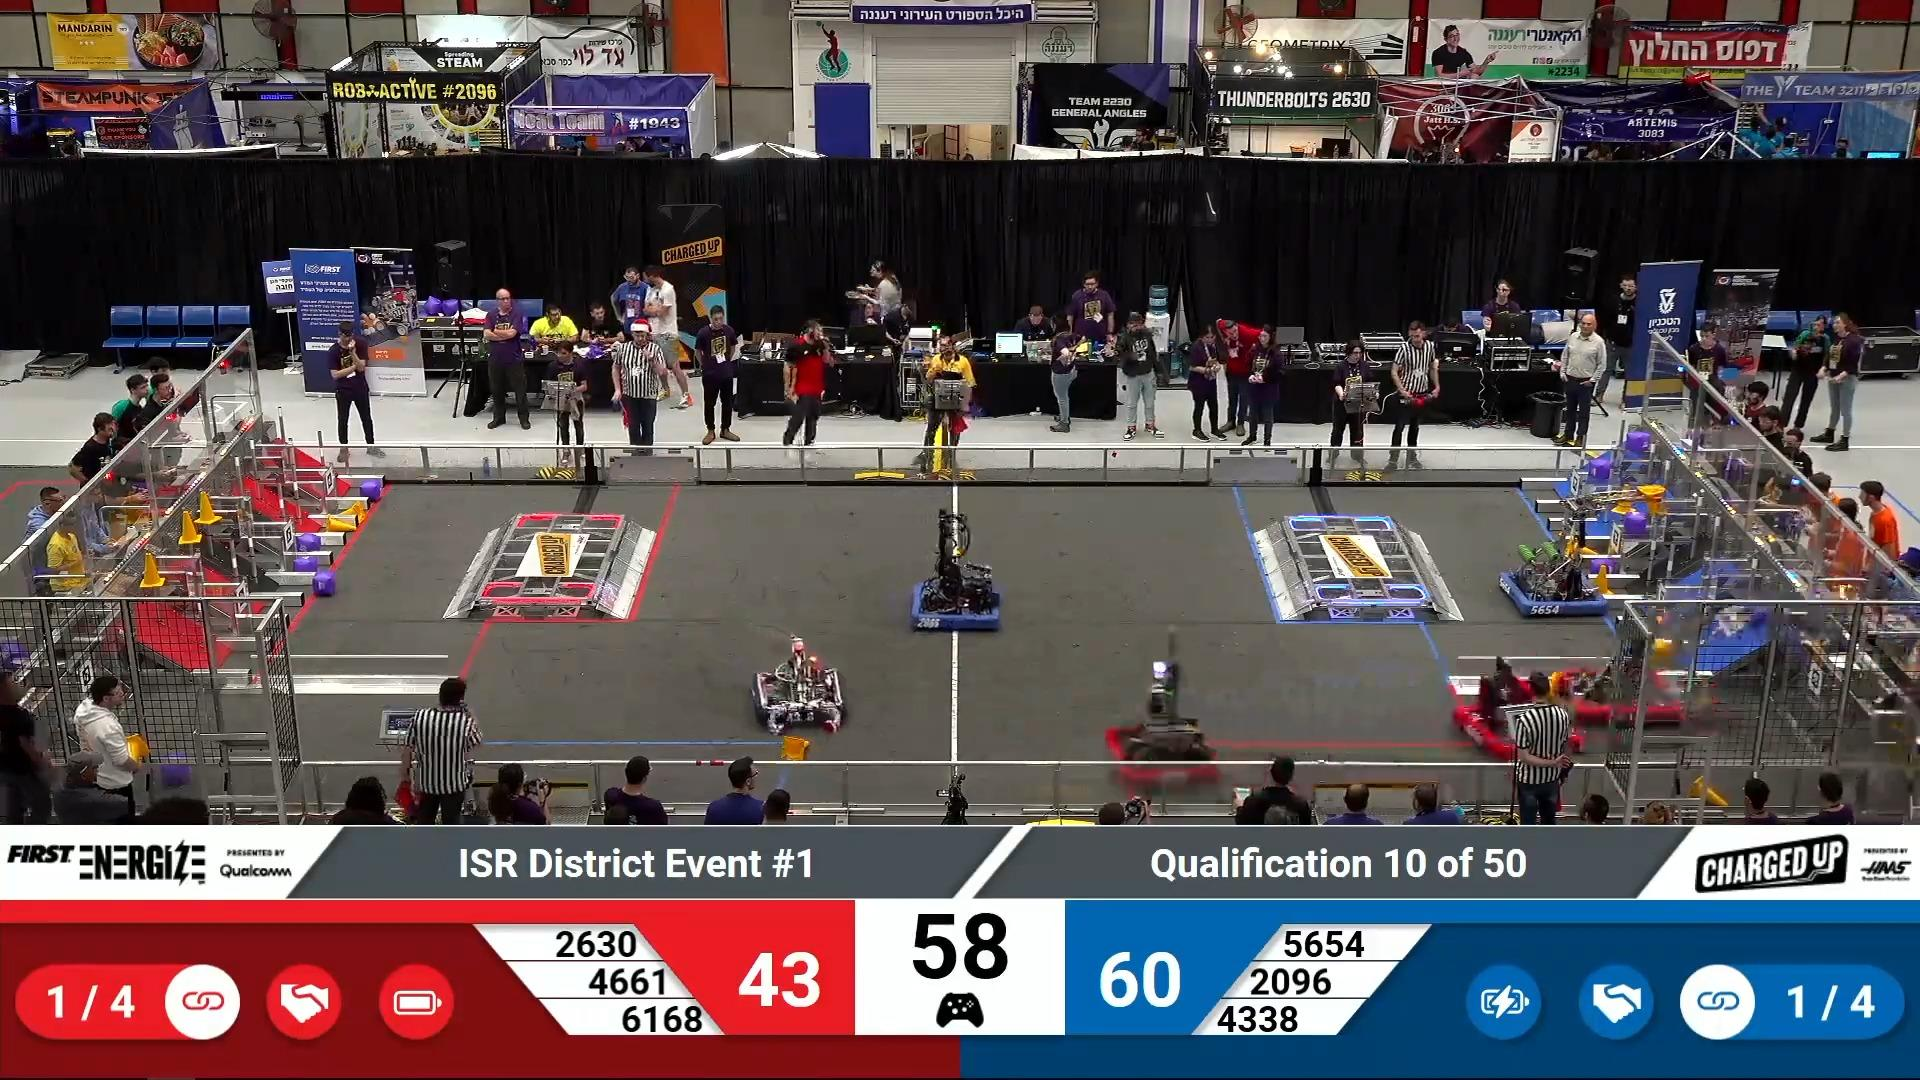robot: (1095, 705, 1232, 794), (1567, 634, 1687, 725), (746, 645, 860, 736), (1493, 537, 1611, 621), (1456, 671, 1573, 753), (910, 549, 1004, 637)
